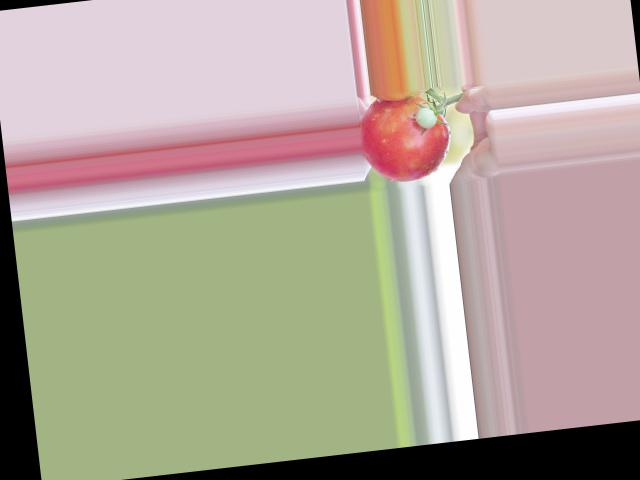tomato: (355, 91, 455, 185)
